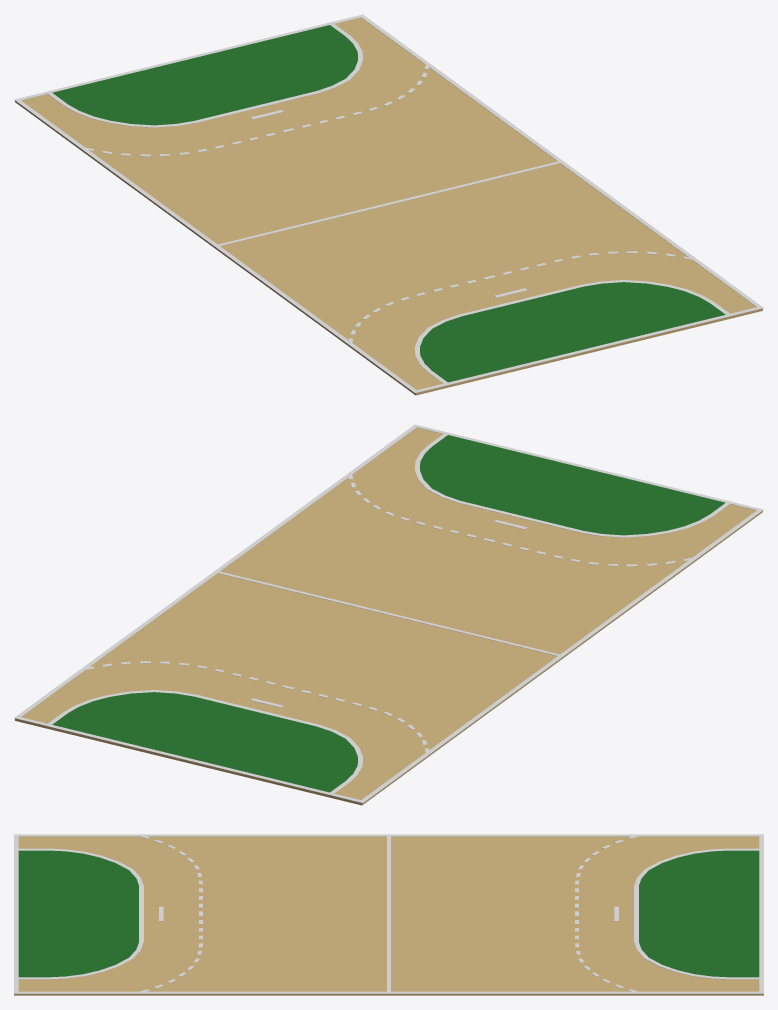
File: Handball Court.fbx
3 views of the same model, one above another, from view 1: azimuth 30°, elevation 25°; view 2: azimuth 150°, elevation 25°; view 3: azimuth 270°, elevation 25° (orthographic). The views are drawn at different scales.
Parts seen in each view (by area): view 1: Handball Court; view 2: Handball Court; view 3: Handball Court.
Part boxes in pixels (x1=…): Handball Court: x1=14, y1=14, x2=763, y2=395; Handball Court: x1=14, y1=424, x2=763, y2=805; Handball Court: x1=14, y1=834, x2=763, y2=995.
Bounding box in the file's own units: 6030 × 44.7 × 12000.
